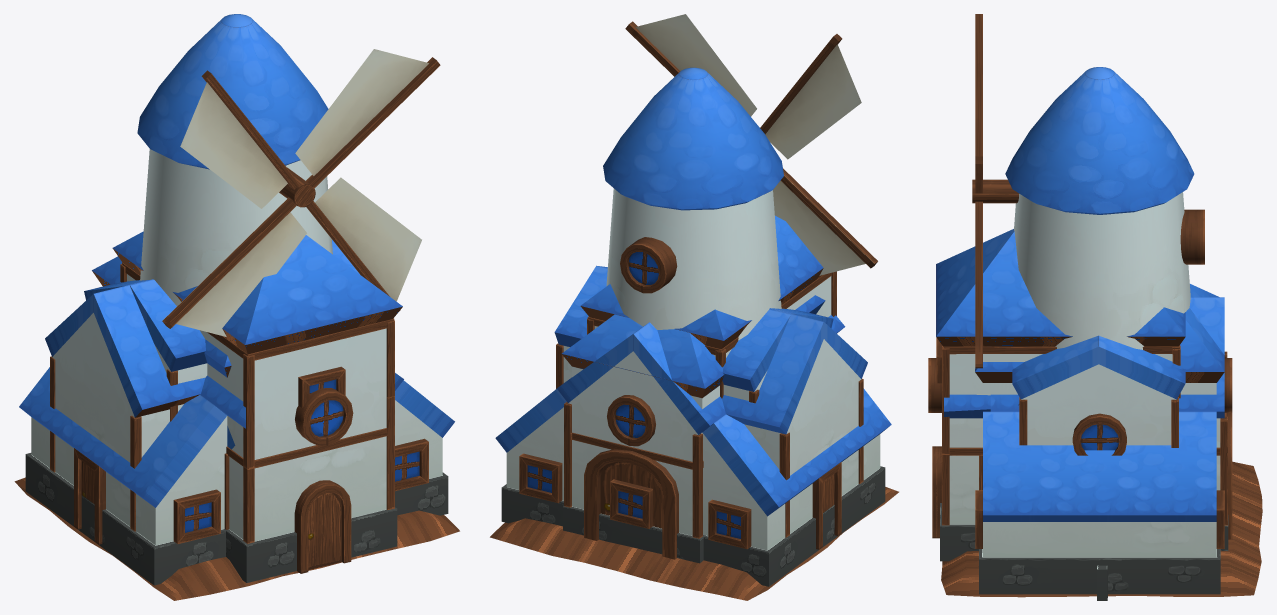
File: Village.glb
3 views of the same model, side by side, from view 1: azimuth 30°, elevation 25°; view 2: azimuth 150°, elevation 25°; view 3: azimuth 270°, elevation 25° (orthographic). The views are drawn at different scales.
Parts seen in each view (by area): view 1: Village.008, Village.006, Village.016, Village.013, Village.005, Village.015, Village.001; view 2: Village.006, Village.005, Village.014, Village.008, Village.016, Village.001, Village.013, Village.015; view 3: Village.006, Village.005, Village.015, Village.013, Village.008, Village.001, Village.014, Village.016.
Boxes of the visible parts, x1,y1,x2,y2 form: Village.008: (45, 279, 403, 582); Village.006: (19, 256, 454, 585); Village.016: (162, 49, 440, 336); Village.013: (112, 231, 402, 469); Village.005: (137, 14, 340, 531); Village.015: (84, 240, 359, 529); Village.001: (14, 477, 459, 600); Village.006: (495, 295, 891, 586); Village.005: (603, 67, 877, 340); Village.014: (557, 322, 725, 563); Village.008: (722, 308, 867, 549); Village.016: (625, 14, 877, 275); Village.001: (490, 487, 898, 600); Village.013: (580, 215, 836, 398); Village.015: (554, 265, 833, 403); Village.006: (975, 284, 1232, 594); Village.005: (936, 67, 1204, 538); Village.015: (979, 335, 1185, 490); Village.013: (936, 229, 1185, 490); Village.008: (928, 358, 1019, 561); Village.001: (941, 461, 1262, 597); Village.014: (990, 297, 1228, 550); Village.016: (972, 14, 1019, 366).
Size of the model in its own units: 8.71 by 13.44 by 8.57.
1 material, 1 textured.
